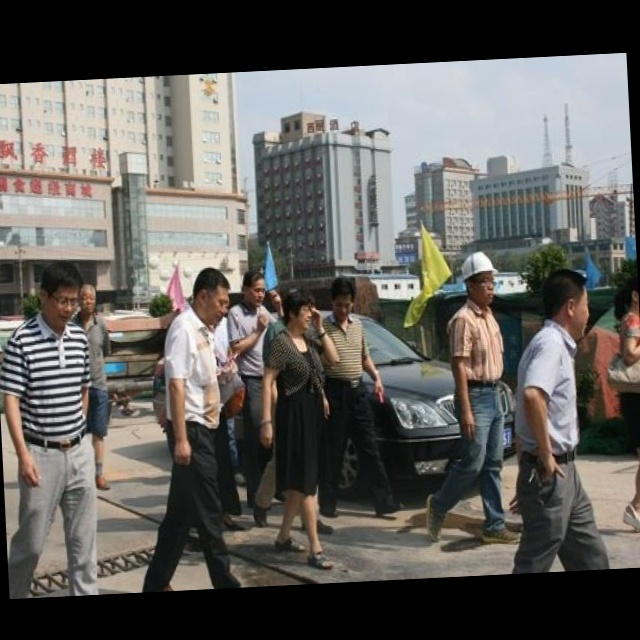Sin_Casco_Mascarrilla: (191, 265, 233, 326)
Sin_Chaleco: (2, 318, 95, 453)
